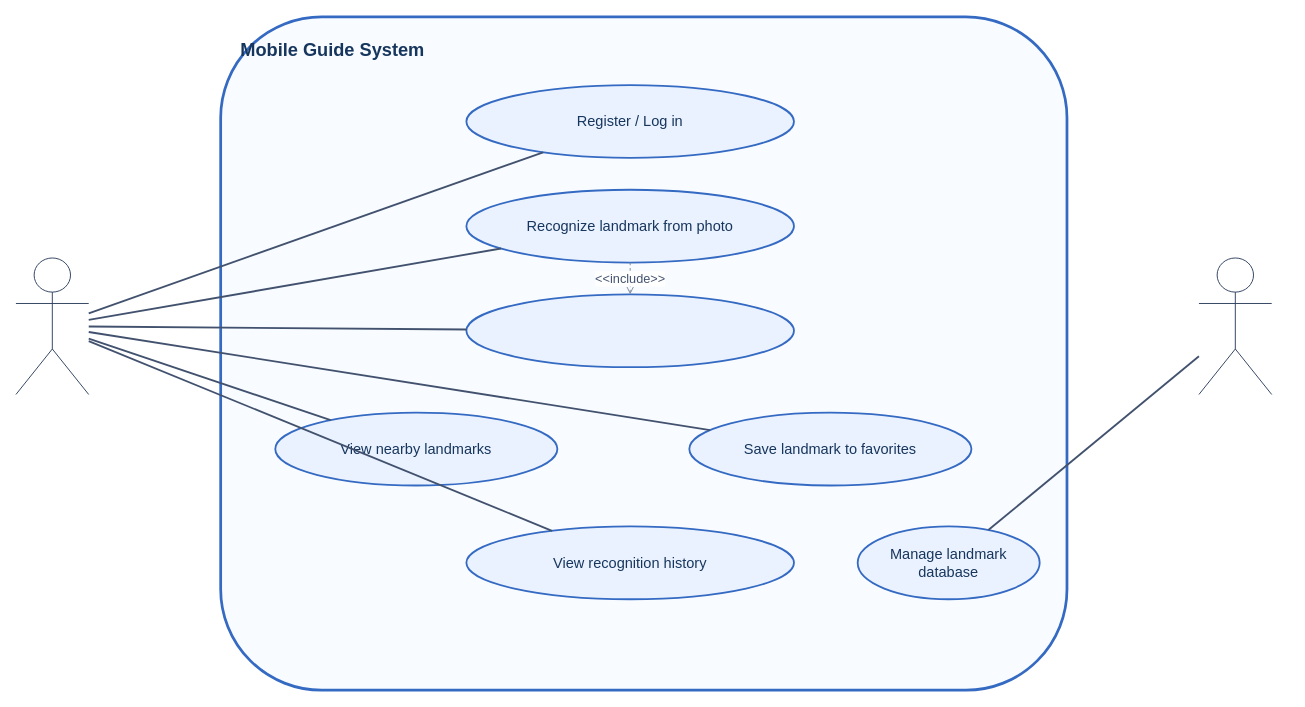
This 1305x707 diagram has some shape labels left out. Each missing label, with the box of its shape:
Administrator: (1198, 257, 1272, 394)
User: (15, 257, 89, 394)
View landmark information: (465, 293, 794, 368)
